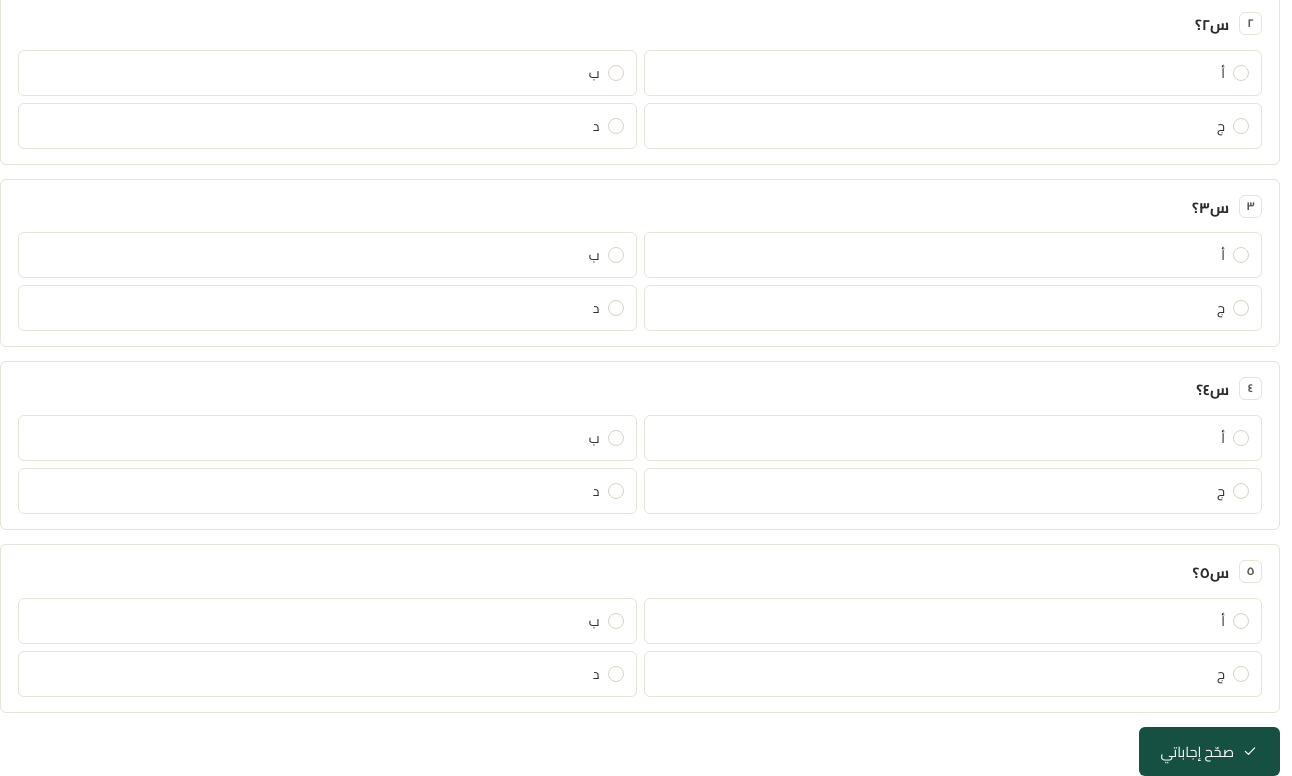
warns instead of submitting when not every question is answered
(page scrolled)
Step 1. Click the button "صحّح إجاباتي" → (1209, 751), box left=1139, top=727, right=1280, bottom=775
(page scrolled)
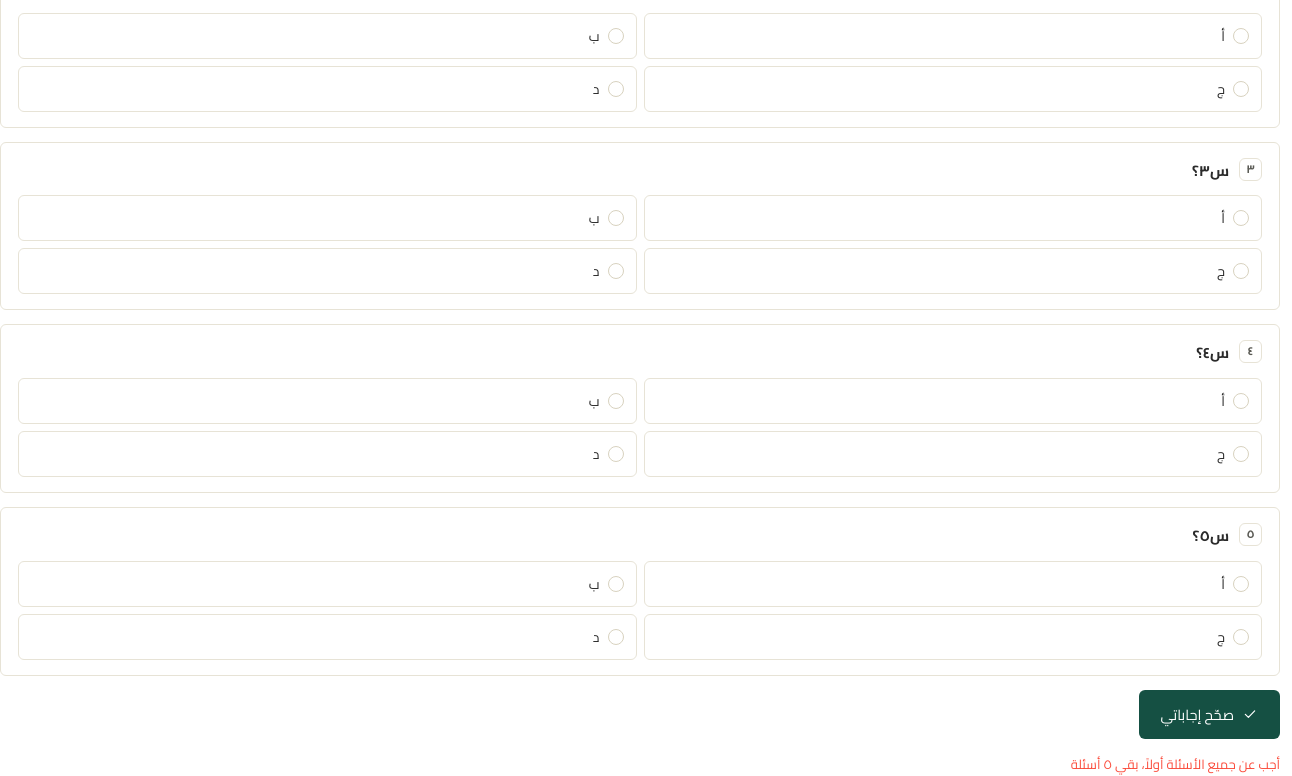
Expected: the text "أجب عن جميع الأسئلة أولاً، بقي ٥ أسئلة" is shown, left=1071, top=752, right=1280, bottom=775
